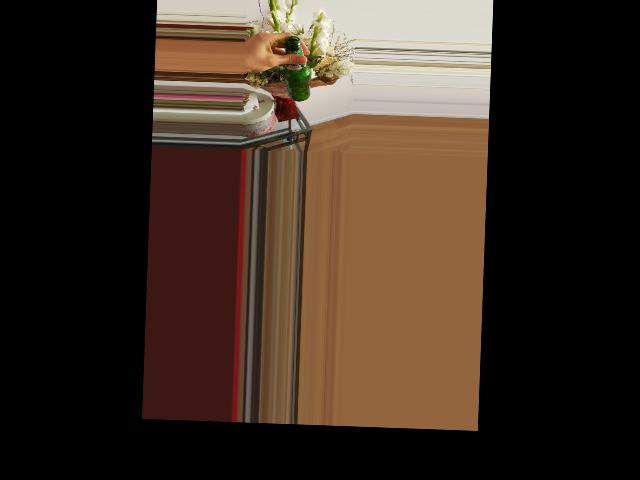beer: (281, 36, 312, 102)
